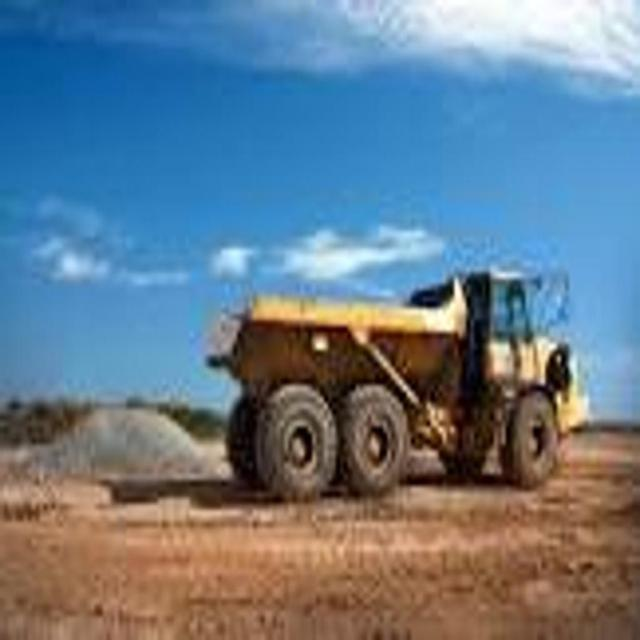dump_truck: (208, 258, 593, 510)
